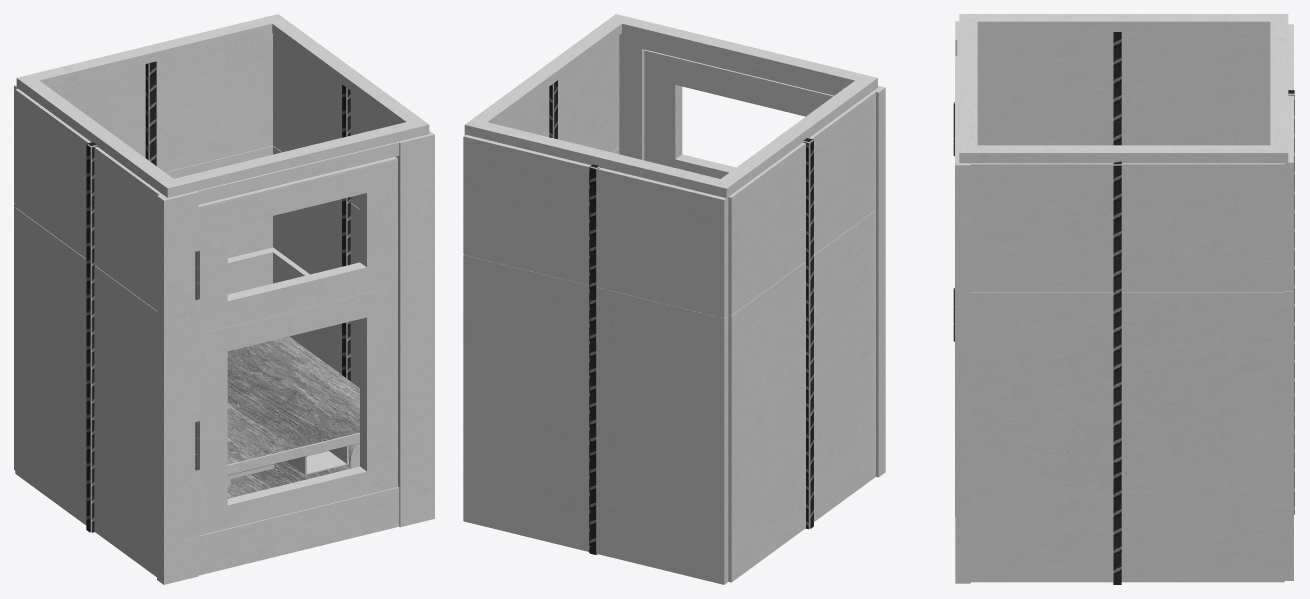
3 views of the same model, side by side, from view 1: azimuth 30°, elevation 25°; view 2: azimuth 150°, elevation 25°; view 3: azimuth 270°, elevation 25° (orthographic). The views are drawn at different scales.
Visible parts, largest first — view 1: test; view 2: test; view 3: test.
Part boxes in pixels (x1,y1,x2,y2): test: [14, 14, 434, 584]; test: [463, 14, 885, 584]; test: [953, 14, 1294, 584].
Bounding box in the file's own units: 6.3 × 8.67 × 6.99.
Materials: 18 (16 with a texture image).
